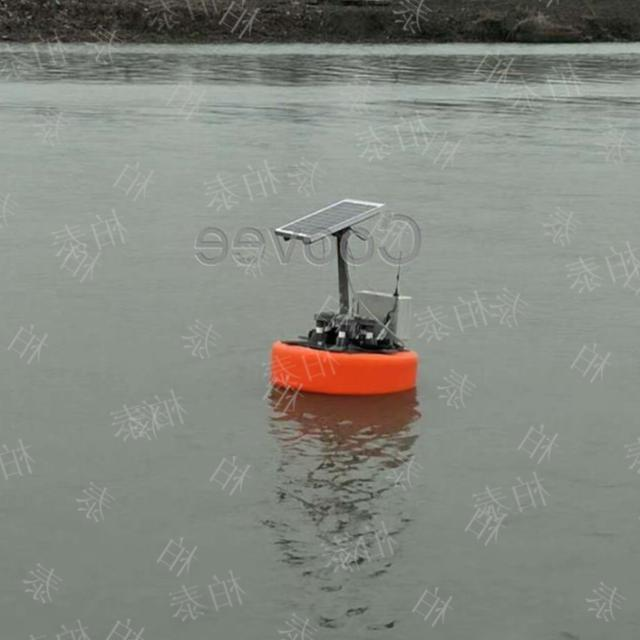buoy: (260, 191, 428, 405)
